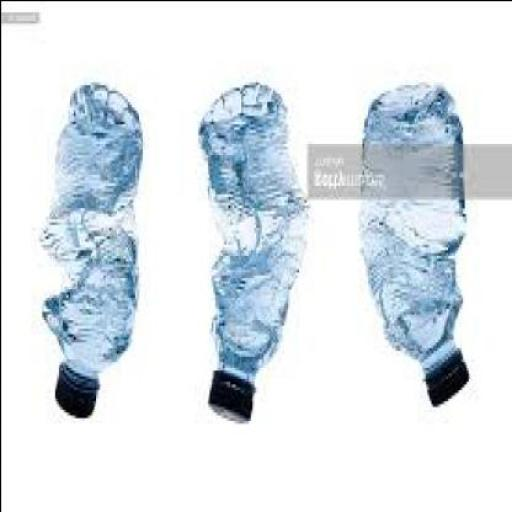plastic: (193, 84, 305, 426), (357, 86, 466, 409), (38, 84, 140, 420), (52, 364, 97, 420), (206, 372, 252, 426), (423, 352, 466, 409)
